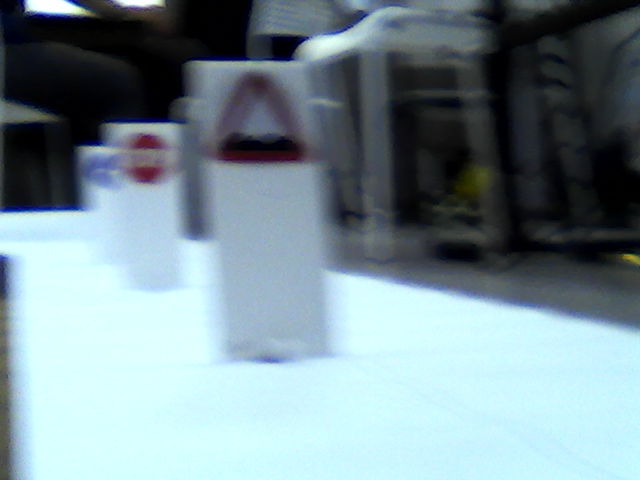Nerov: (213, 70, 310, 165)
Stop: (125, 131, 175, 184)
